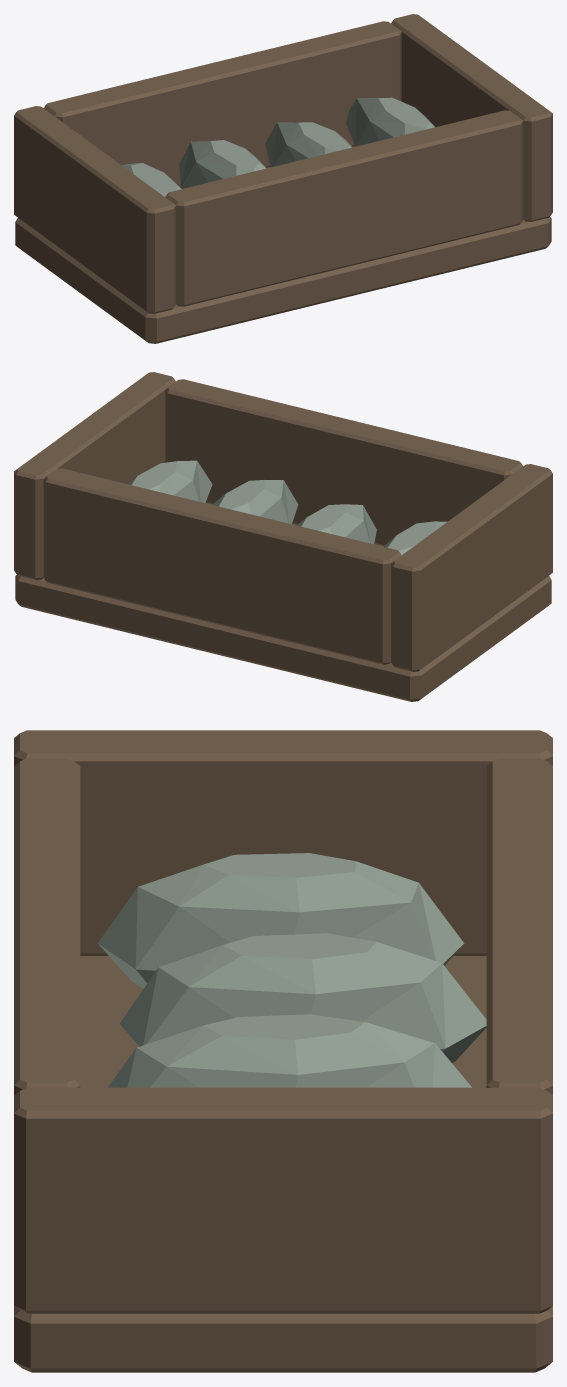
Rendered from fish-crate.glb.
The picture shows the model from 3 angles, top to bottom: view 1: azimuth 30°, elevation 25°; view 2: azimuth 150°, elevation 25°; view 3: azimuth 270°, elevation 25°; orthographic projection. The views are drawn at different scales.
Visible parts, largest first — view 1: fish-crate__body; view 2: fish-crate__body; view 3: fish-crate__body.
Boxes of the visible parts, <box> form: fish-crate__body: <box>14,14,552,343</box>; fish-crate__body: <box>14,372,552,701</box>; fish-crate__body: <box>14,730,552,1372</box>.
Bounding box in the file's own units: 1.1 × 0.35 × 0.65.
